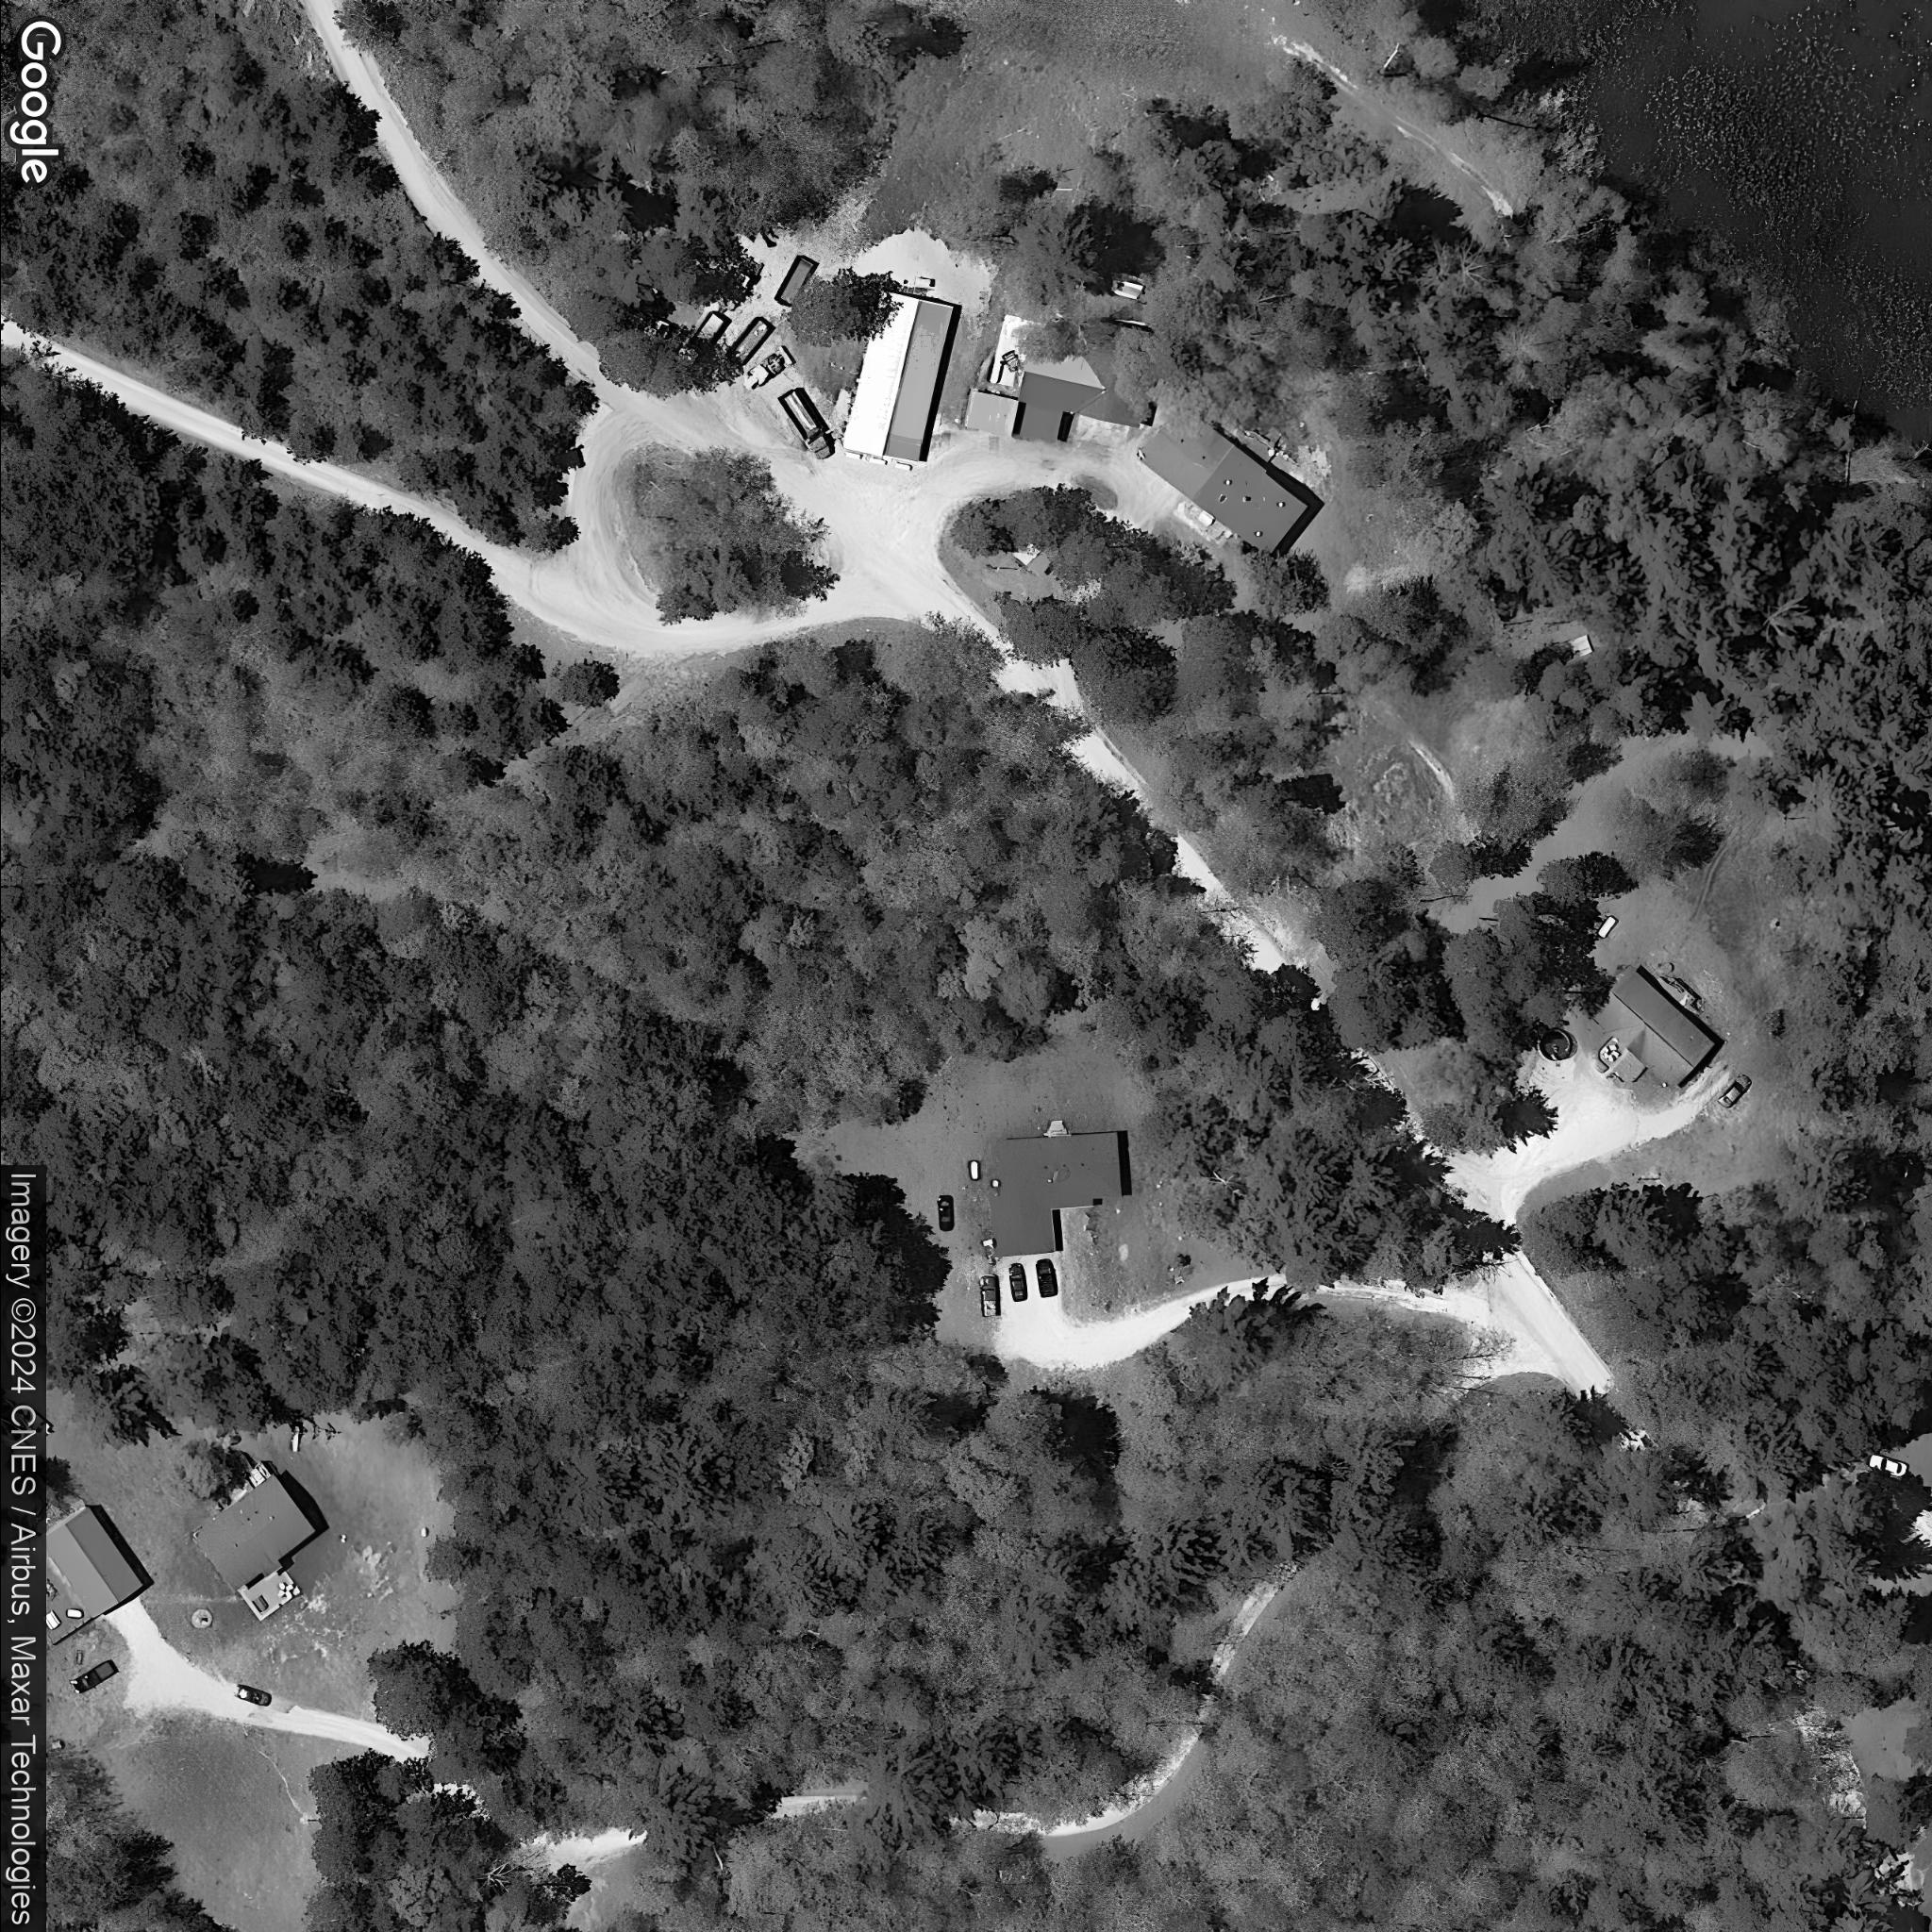Garage: (839, 285, 957, 465), (37, 1502, 143, 1622)
House: (1134, 402, 1315, 561), (985, 1129, 1125, 1260), (1012, 320, 1155, 446), (1583, 962, 1718, 1092), (189, 1470, 318, 1594)
Propane: (1596, 911, 1622, 943), (285, 1421, 303, 1454), (966, 1159, 982, 1184), (892, 460, 913, 474), (867, 455, 888, 469), (842, 449, 863, 462)
